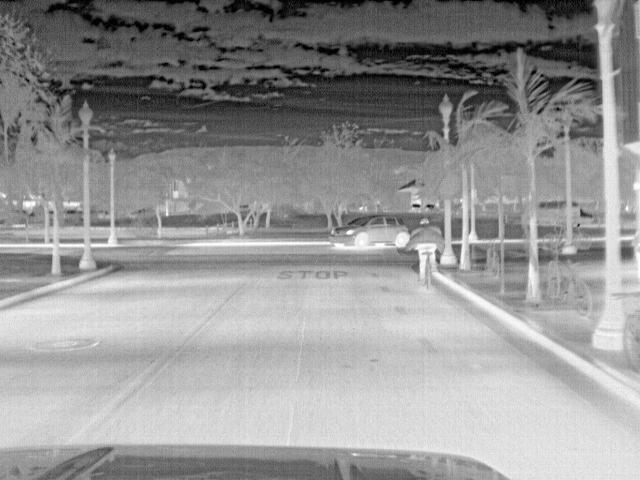car: (328, 213, 409, 248), (536, 199, 567, 229)
person: (413, 219, 443, 282)
